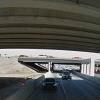Bridge: (17, 50, 91, 76)
